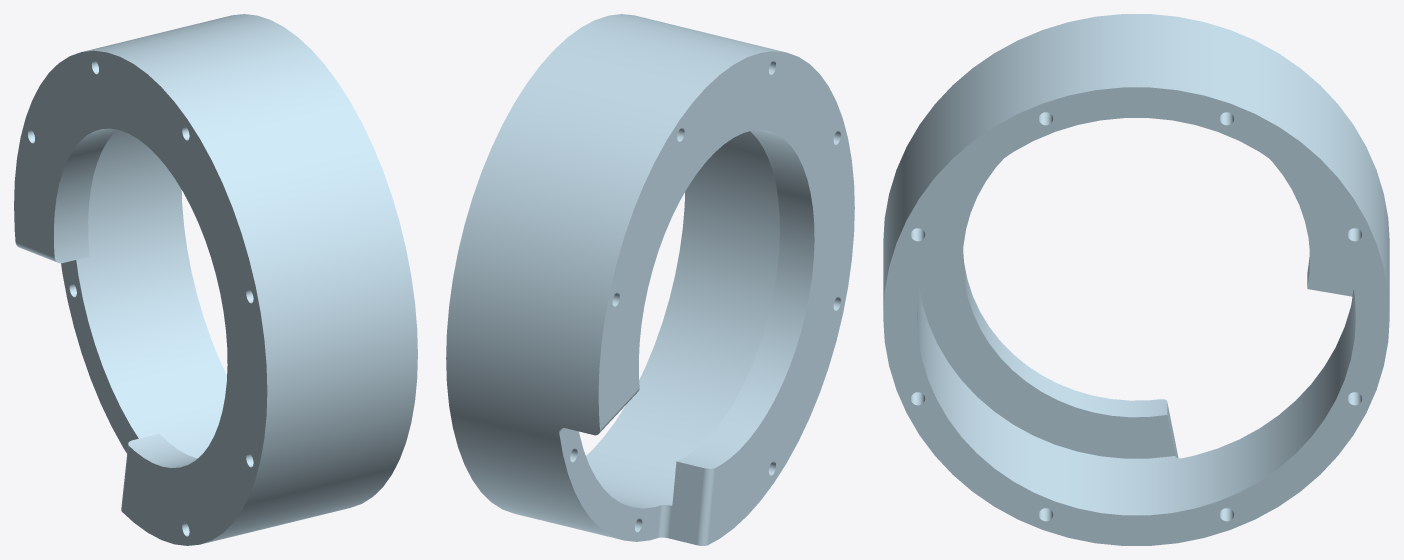
The picture shows the model from 3 angles, left to right: view 1: azimuth 30°, elevation 25°; view 2: azimuth 150°, elevation 25°; view 3: azimuth 270°, elevation 25°; orthographic projection.
Visible parts, largest first — view 1: mesh4072, mesh4076, mesh4068, mesh4073, mesh4064; view 2: mesh4072, mesh4076, mesh4068, mesh4073, mesh4064, mesh4071, mesh4074; view 3: mesh4077, mesh4072, mesh4068, mesh4069, mesh4073.
Boxes of the visible parts, x1,y1,x2,y2 form: mesh4072: (82, 14, 417, 544); mesh4076: (14, 50, 267, 545); mesh4068: (76, 130, 226, 458); mesh4073: (54, 128, 197, 467); mesh4064: (61, 260, 138, 453); mesh4072: (446, 14, 784, 539); mesh4076: (598, 51, 854, 544); mesh4068: (586, 131, 779, 508); mesh4073: (677, 130, 814, 468); mesh4064: (559, 428, 660, 541); mesh4071: (669, 461, 703, 545); mesh4074: (697, 468, 714, 545); mesh4077: (883, 87, 1389, 545); mesh4072: (883, 14, 1389, 310); mesh4068: (917, 288, 1355, 515); mesh4069: (919, 159, 1353, 458); mesh4073: (963, 252, 1309, 417).
Bounding box in the file's own units: 0.036 × 0.1048 × 0.105.
